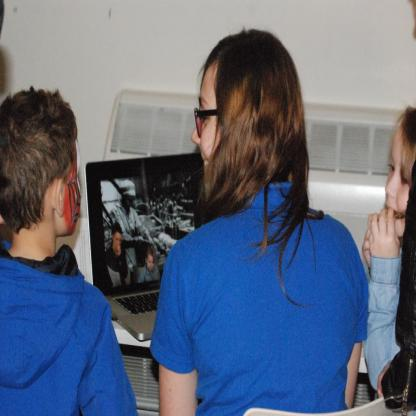board: (84, 153, 204, 344)
